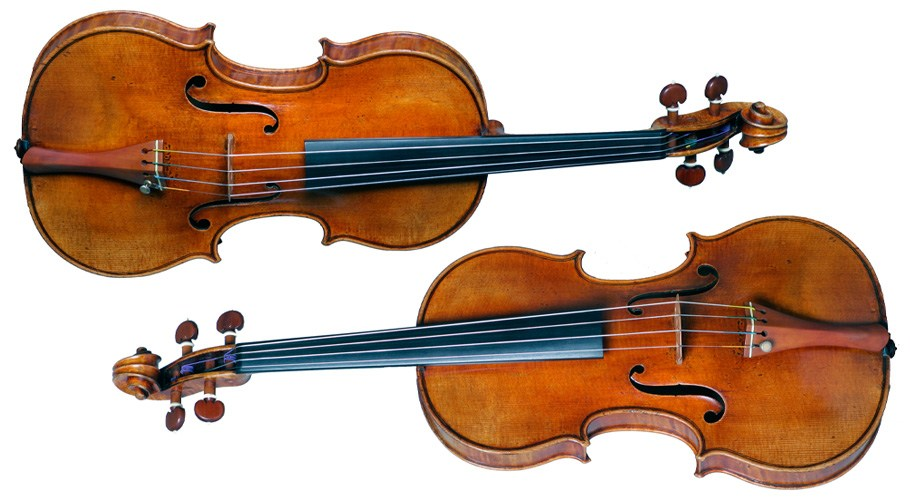Fiddle: (77, 219, 899, 478), (16, 13, 796, 216)
